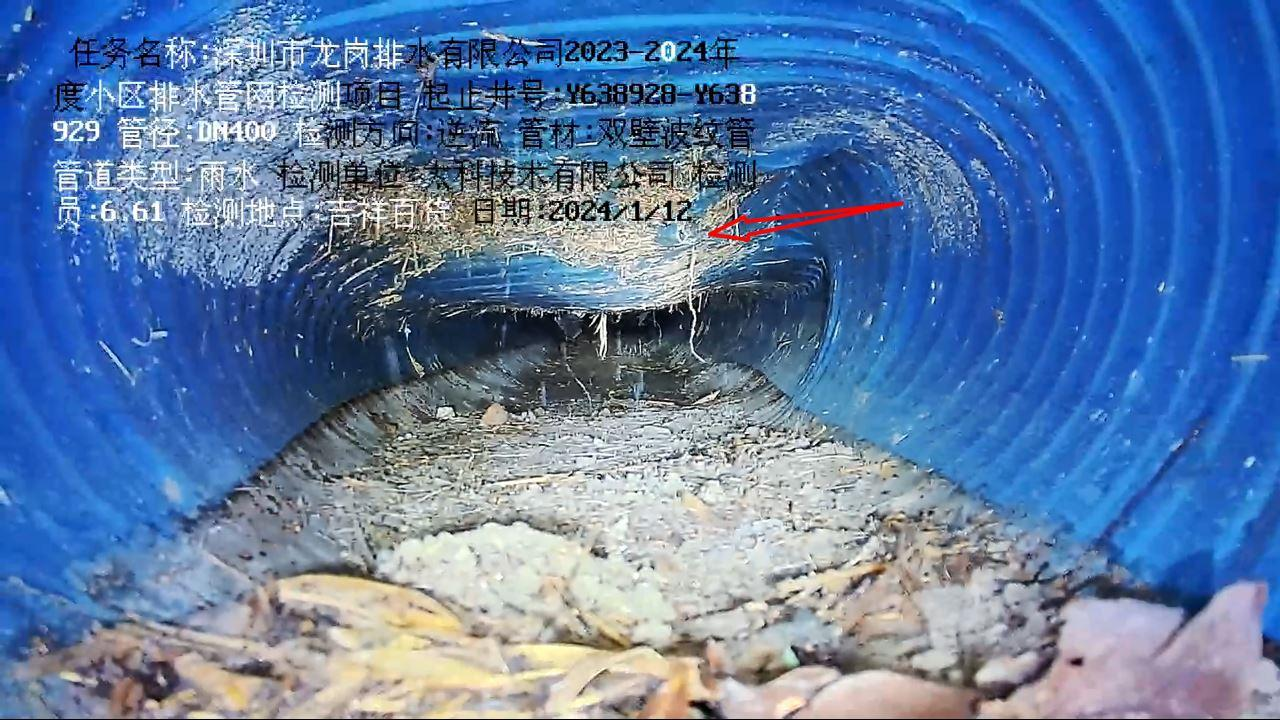BX: (298, 126, 851, 346)
